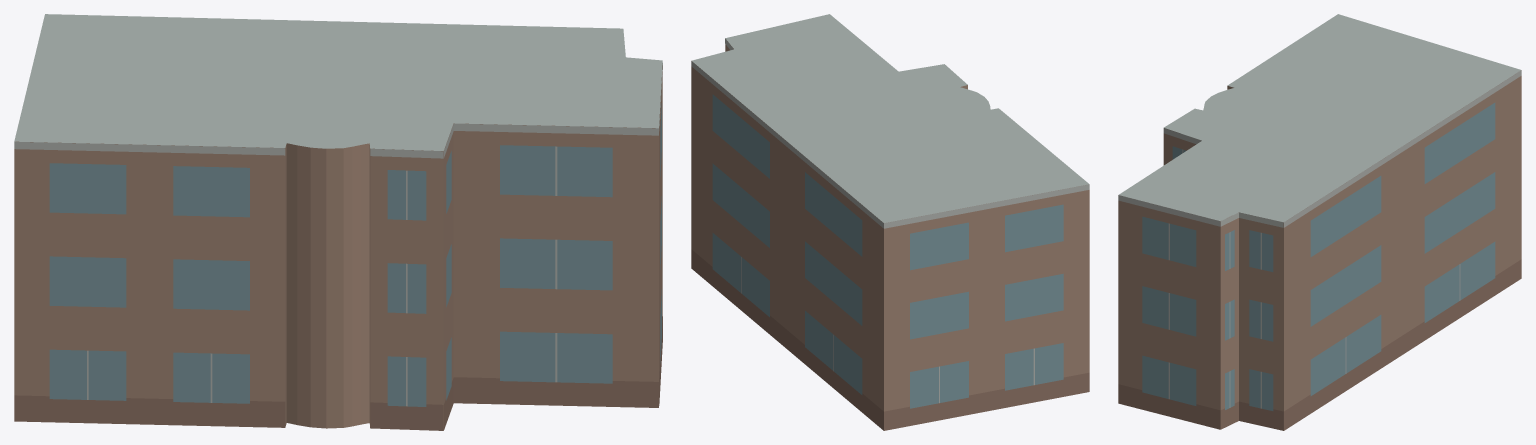
Rendered from survey-upis-32824199.glb.
3 views of the same model, side by side, from view 1: azimuth 30°, elevation 25°; view 2: azimuth 150°, elevation 25°; view 3: azimuth 270°, elevation 25° (orthographic). The views are drawn at different scales.
Parts seen in each view (by area): view 1: survey-upis-32824199.tmp; view 2: survey-upis-32824199.tmp; view 3: survey-upis-32824199.tmp.
Part boxes in pixels (x1,y1,x2,y2): survey-upis-32824199.tmp: (14,14,662,430); survey-upis-32824199.tmp: (691,14,1089,430); survey-upis-32824199.tmp: (1118,14,1521,430).
Size of the model in its own units: 19.62 by 9.15 by 16.05.
